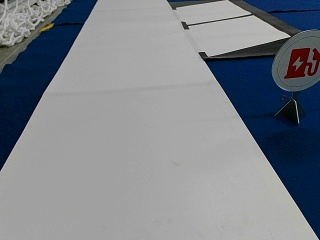battery: (272, 29, 319, 91)
